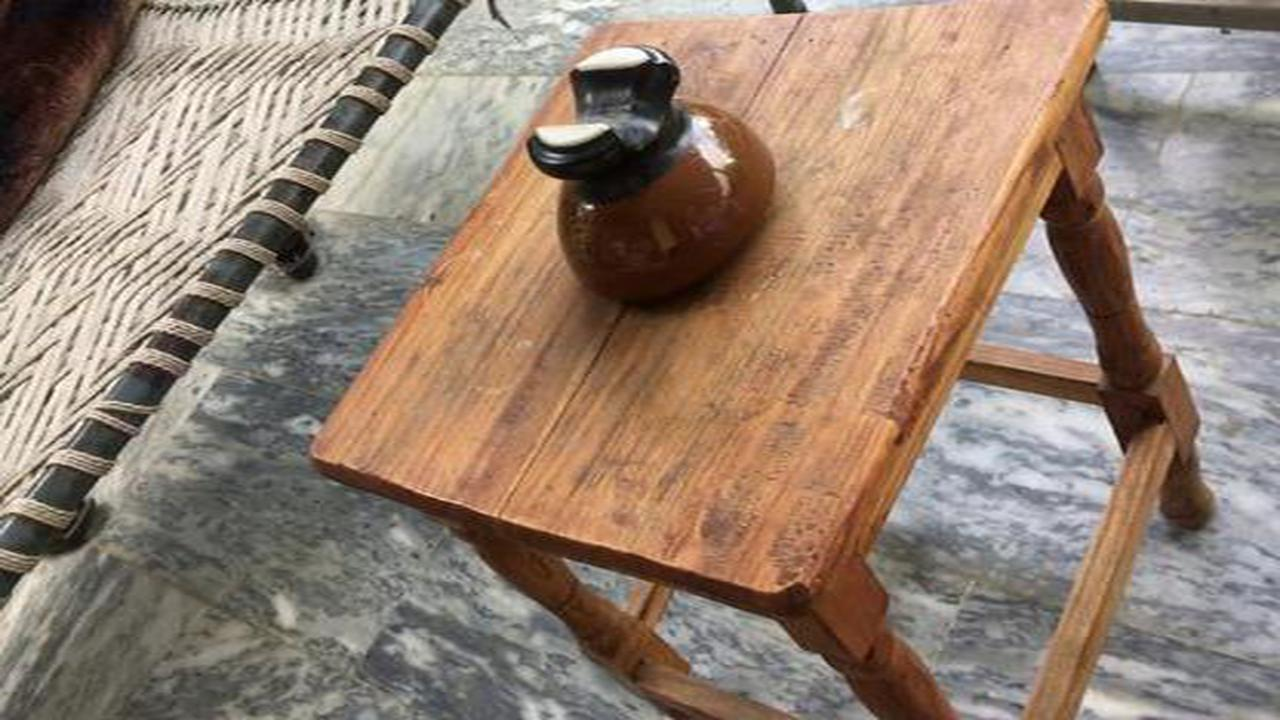insulator_pin: (511, 33, 794, 322)
